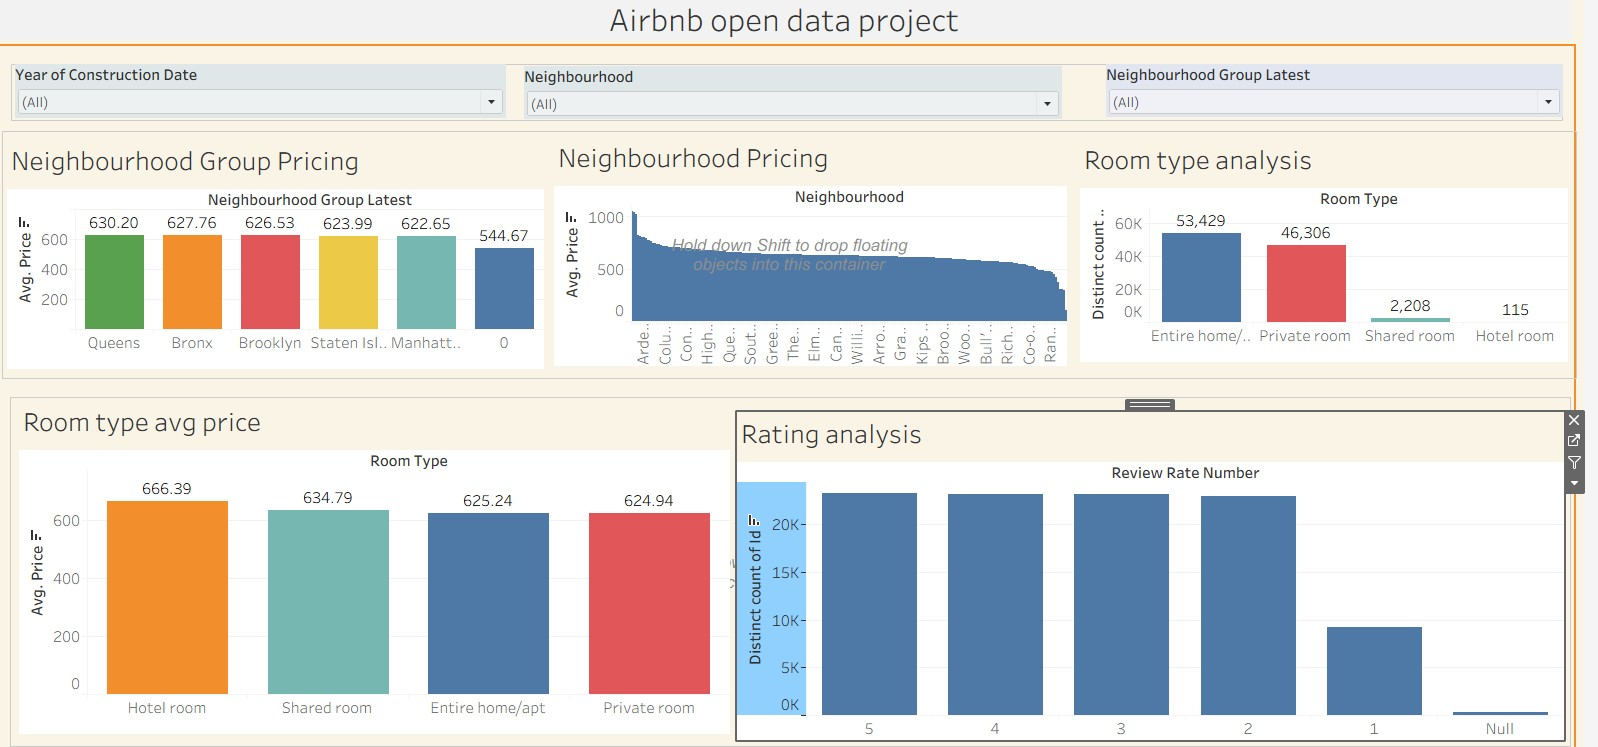

This screenshot's page, from the dashboard's own definition file:
{"tool":"tableau","page":{"name":"AIRBNB OPEN DATA PROJECT","canvas":[1600,800],"ordinal":0},"visuals":[{"type":"title","box":[8,8,1584,50]},{"type":"filter","title":"Neighbourhood Group Pricing","param":"[federated.0w6gg481726b4417unm1r0p1uwsn].[yr:construction_date:ok]","box":[31,78,491,54]},{"type":"filter","title":"Neighbourhood Group Pricing","param":"[federated.0w6gg481726b4417unm1r0p1uwsn].[none:neighbourhood_group_latest:nk]","box":[1122,78,457,53]},{"type":"filter","title":"Neighbourhood Group Pricing","param":"[federated.0w6gg481726b4417unm1r0p1uwsn].[none:neighbourhood:nk]","box":[540,80,538,53]},{"type":"worksheet","title":"Neighbourhood Pricing","mark":"Automatic","rows":["Price"],"cols":["neighbourhood"],"box":[570,150,513,231]},{"type":"worksheet","title":"Room type analysis","mark":"Automatic","rows":["id"],"cols":["room_type"],"box":[1096,152,488,224]},{"type":"worksheet","title":"Neighbourhood Group Pricing","mark":"Automatic","rows":["Price"],"cols":["neighbourhood_group_latest"],"box":[23,153,537,230]},{"type":"worksheet","title":"Room type avg price ","mark":"Automatic","rows":["Price"],"cols":["room_type"],"box":[35,414,711,334]},{"type":"worksheet","title":"Rating analysis","mark":"Automatic","rows":["id"],"cols":["review rate number"],"box":[753,426,827,328]}]}

Visuals, with their boxes on the page's 1600x800 design canvas (x1, y1, x2, y2). These are canvas units, not pixel positions in the 1598x747 screenshot, which may show the page scaled, cropped or inside an application window:
title: l=8, t=8, r=1592, b=58
"Neighbourhood Group Pricing" filter: l=31, t=78, r=522, b=132
"Neighbourhood Group Pricing" filter: l=1122, t=78, r=1579, b=131
"Neighbourhood Group Pricing" filter: l=540, t=80, r=1078, b=133
"Neighbourhood Pricing" worksheet: l=570, t=150, r=1083, b=381
"Room type analysis" worksheet: l=1096, t=152, r=1584, b=376
"Neighbourhood Group Pricing" worksheet: l=23, t=153, r=560, b=383
"Room type avg price " worksheet: l=35, t=414, r=746, b=748
"Rating analysis" worksheet: l=753, t=426, r=1580, b=754
